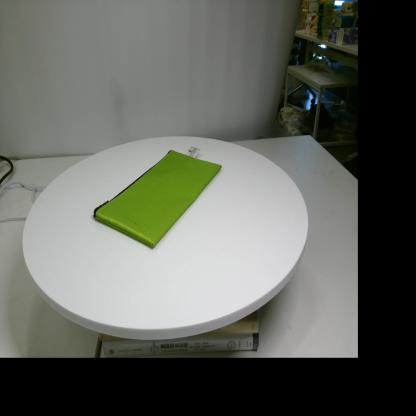Stationery: (93, 146, 222, 247)
